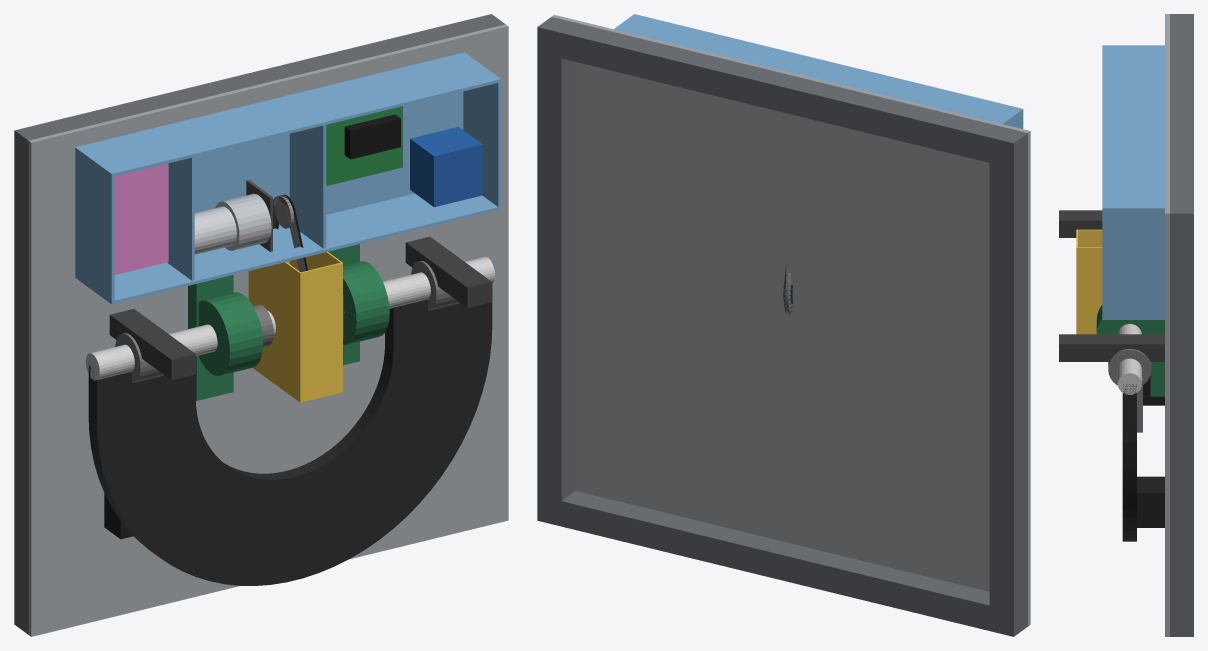
The model's file is PARKFNB_V2_Assembly_3D_arch_down.obj.
The picture shows the model from 3 angles, left to right: view 1: azimuth 30°, elevation 25°; view 2: azimuth 150°, elevation 25°; view 3: azimuth 270°, elevation 25°; orthographic projection. The views are drawn at different scales.
Parts seen in each view (by area): view 1: deck_plate, arch_rubber, enclosure, frame, chain_guard, bearing_ucp205, enclosure_divider, end_stop, battery_3s2p, ibt2_driver, shaft_25, controller_pcb (+5 smaller); view 2: deck_plate, frame, enclosure; view 3: enclosure, frame, end_stop, deck_plate, chain_guard, arch_rubber, rest_pad, bearing_ucp205, shaft_25, arch_clamp, arch_bracket.
Boxes of the visible parts, x1,y1,x2,y2 form: deck_plate: [28, 24, 508, 636]; arch_rubber: [88, 284, 492, 585]; enclosure: [75, 52, 501, 304]; frame: [14, 14, 505, 634]; chain_guard: [248, 252, 342, 402]; bearing_ucp205: [188, 244, 389, 400]; enclosure_divider: [167, 125, 326, 280]; end_stop: [109, 236, 491, 380]; battery_3s2p: [114, 163, 168, 274]; ibt2_driver: [410, 127, 482, 207]; shaft_25: [85, 256, 494, 380]; controller_pcb: [326, 106, 402, 185]; deck_plate: [551, 15, 1030, 626]; frame: [537, 17, 1027, 636]; enclosure: [614, 14, 1023, 128]; enclosure: [1102, 45, 1164, 319]; frame: [1170, 14, 1193, 636]; end_stop: [1059, 210, 1164, 361]; deck_plate: [1165, 14, 1169, 636]; chain_guard: [1076, 229, 1102, 334]; arch_rubber: [1122, 384, 1136, 541]; rest_pad: [1137, 375, 1164, 527]; bearing_ucp205: [1096, 305, 1164, 396]; shaft_25: [1117, 324, 1141, 394]; arch_clamp: [1108, 349, 1151, 385]; arch_bracket: [1137, 378, 1142, 432].
Bounding box in the file's own units: 490 × 485 × 140.
